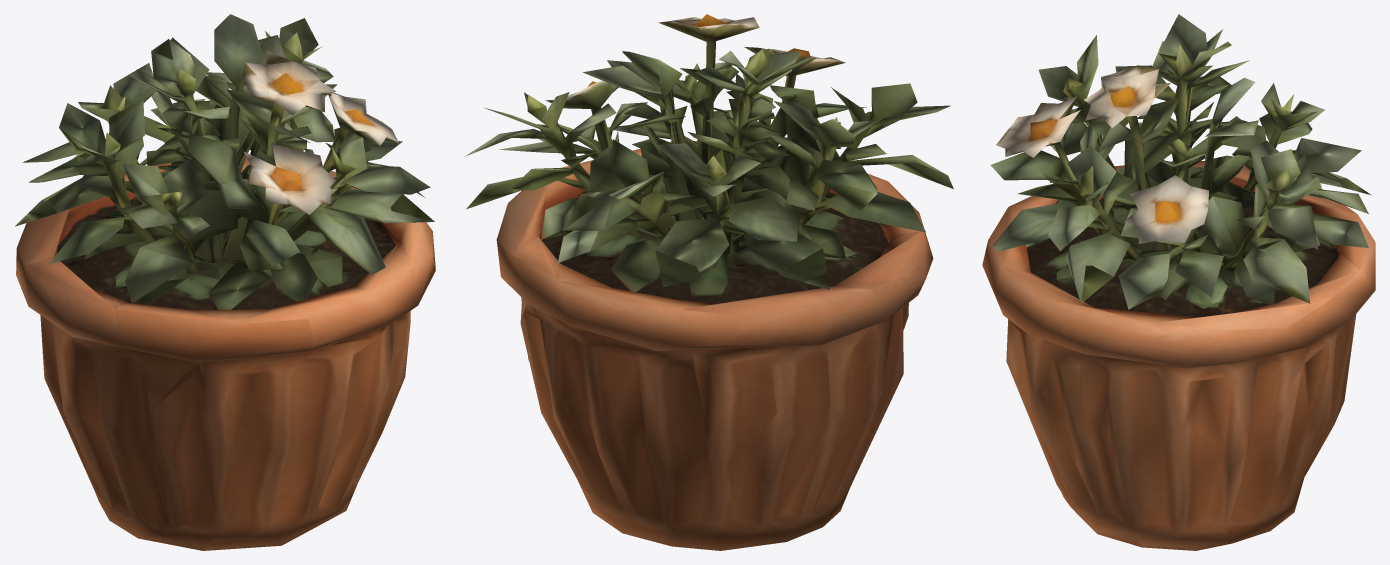
The model's file is pot_fluted.glb.
3 views of the same model, side by side, from view 1: azimuth 30°, elevation 25°; view 2: azimuth 150°, elevation 25°; view 3: azimuth 270°, elevation 25° (orthographic). The views are drawn at different scales.
Visible parts, largest first — view 1: tripo_node_8c1236c2; view 2: tripo_node_8c1236c2; view 3: tripo_node_8c1236c2.
Part boxes in pixels (x1=…): tripo_node_8c1236c2: x1=15, y1=14, x2=435, y2=550; tripo_node_8c1236c2: x1=464, y1=14, x2=953, y2=550; tripo_node_8c1236c2: x1=982, y1=14, x2=1375, y2=550.
Bounding box in the file's own units: 0.6554 × 0.7343 × 0.5952.
1 material, 1 textured.
